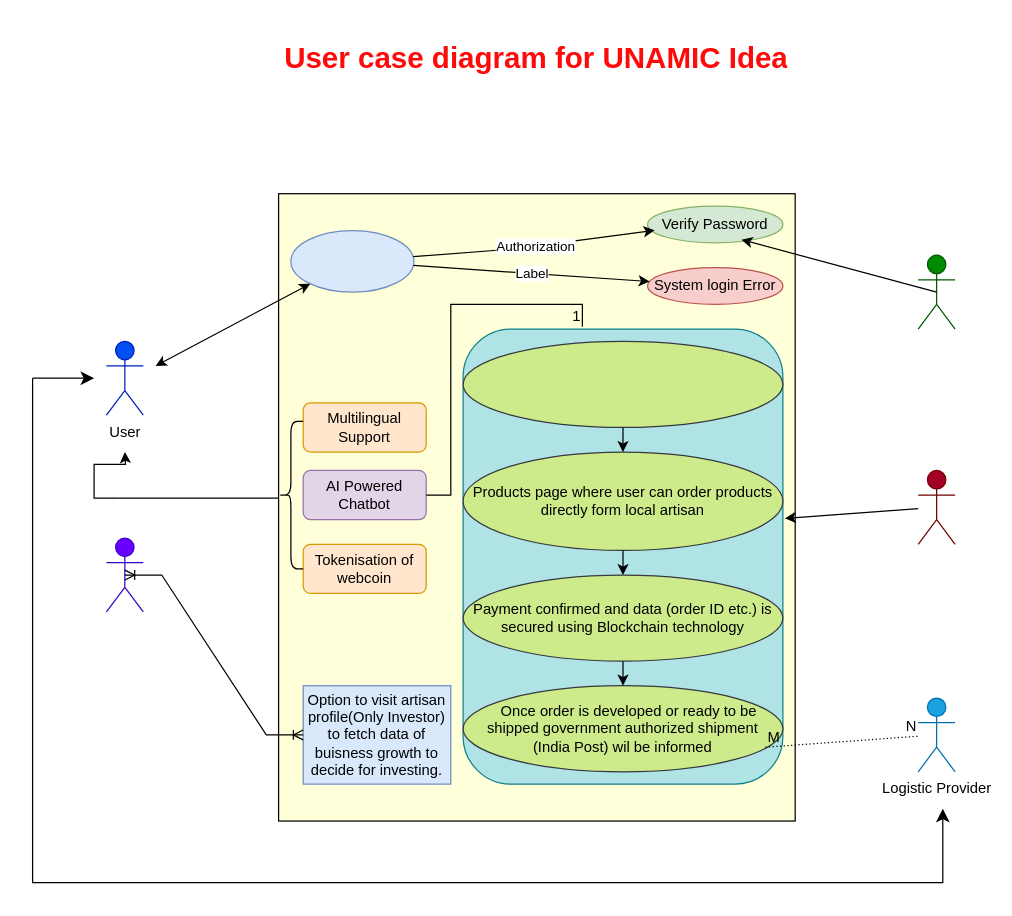
Image size: 1012x916. Some labels were removed from this diagram. The box of each missing label's shape, as (x1, y1, x2, y2) in pixels:
Admin: (917, 254, 955, 329)
Artisan: (917, 469, 955, 544)
Home Page(Landing page) to give some info about ODOP and promotion of products: (462, 340, 783, 427)
Investor: (105, 537, 143, 612)
SignUp / Login: (290, 229, 414, 292)
